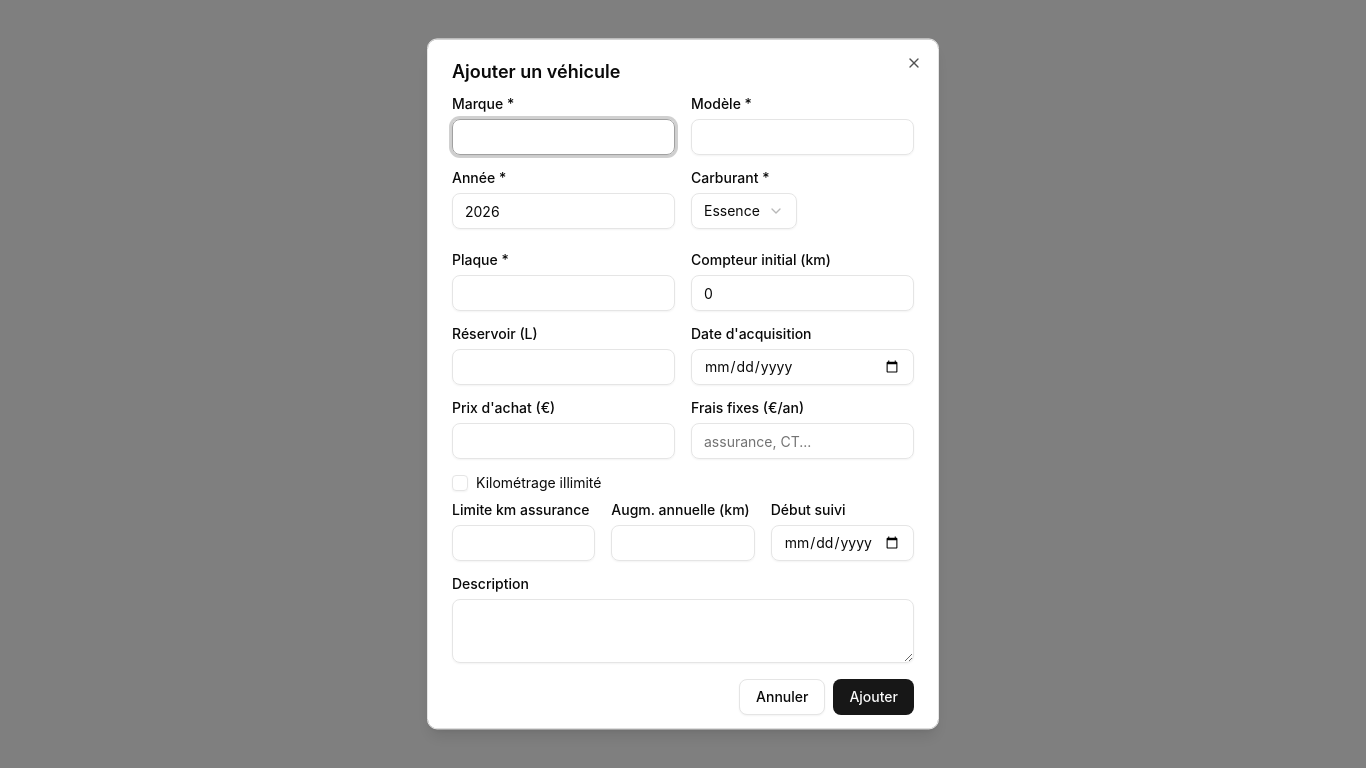
Scenario: VehicleAddDialog › invalid submit: zod validation blocks the POST and shows the message
expect the heading "Ajouter un véhicule" is shown: met, box [452,61,620,82]
Click the button "Ajouter". click: (874, 697)
box: [833,679,914,715]
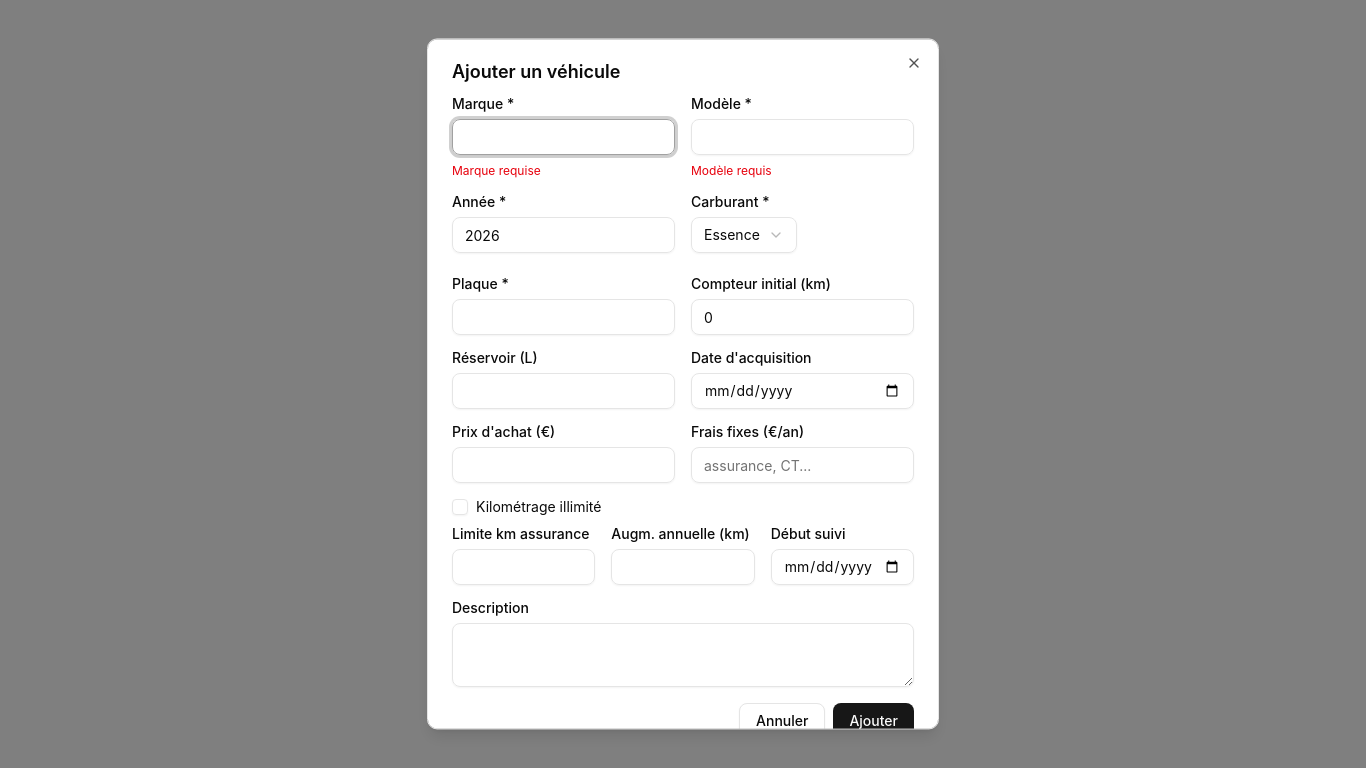
expect the text "Marque requise" is shown: met, box [452,163,541,178]
